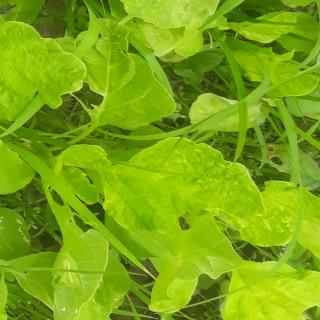karat_putih: (0, 210, 33, 242), (167, 0, 211, 15)
virus_keriting: (90, 18, 132, 57), (201, 153, 247, 185)
